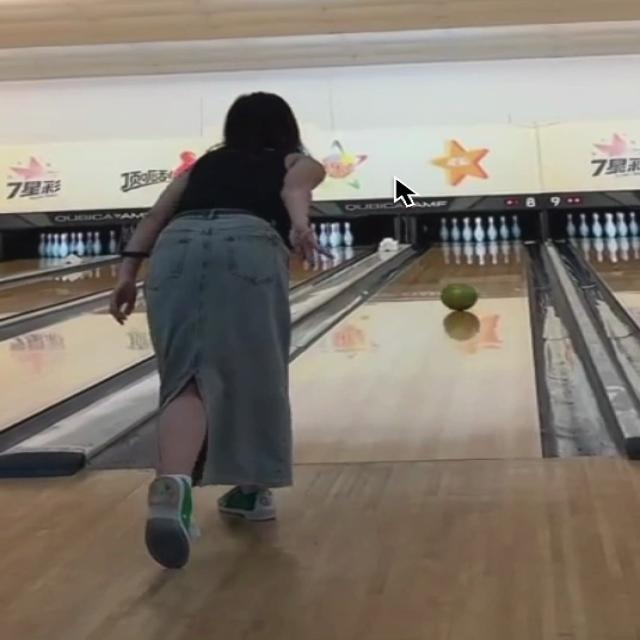alley: (291, 243, 540, 464)
balls: (441, 283, 478, 311)
bottle: (441, 214, 519, 242)
